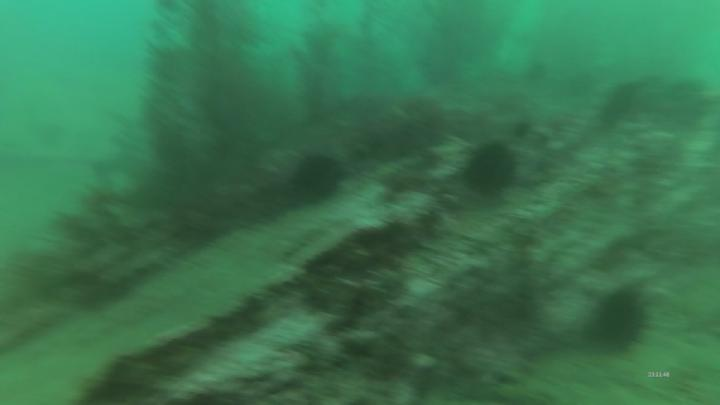echinus: (595, 281, 657, 358), (463, 140, 526, 202), (289, 150, 352, 205)
